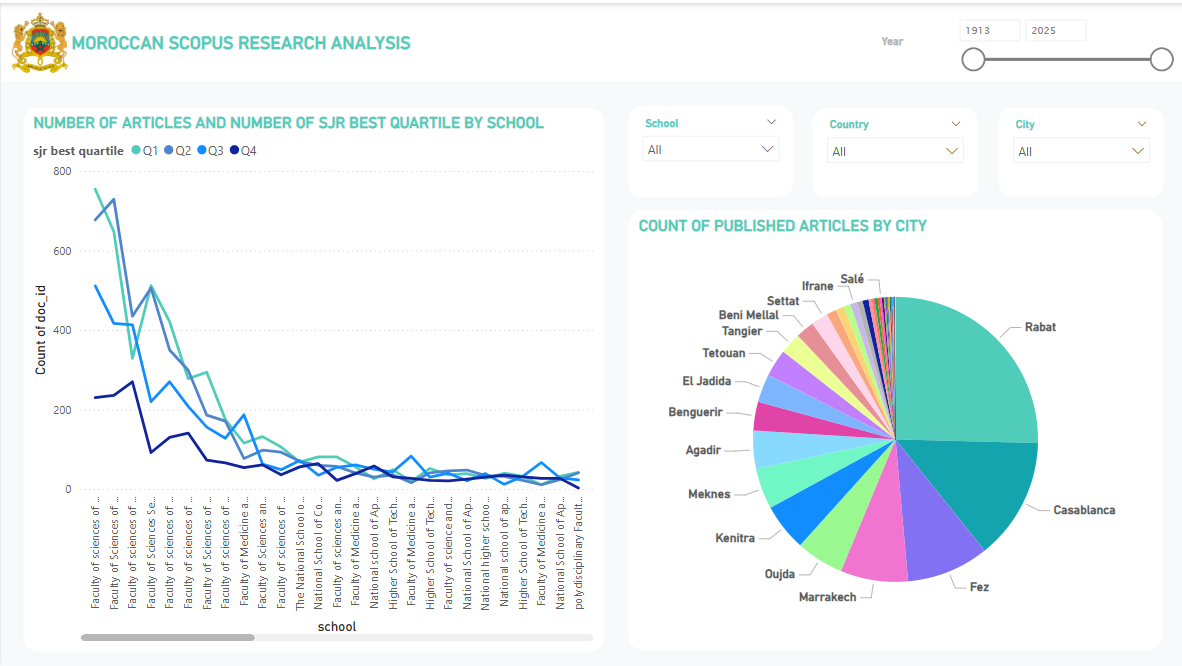

Layout of this report page (visuals, bound fields, positions):
{"tool":"powerbi","page":{"name":"Dashboard2","canvas":[1280,720],"ordinal":1},"visuals":[{"type":"textbox","box":[0,0,1280.5,84.5],"z":0},{"type":"image","box":[0,0,84.5,84.5],"z":1000},{"type":"textbox","box":[71.8,26.5,393.1,41.6],"z":2000},{"type":"textbox","box":[949.9,26,58.6,34.2],"z":3000},{"type":"slicer","fields":{"Values":["Metadata.year"]},"box":[1026.3,8.1,253.7,76.4],"z":4000},{"type":"slicer","fields":{"Values":["Affiliation.city"]},"box":[1081,113.4,179.5,96.4],"z":5000},{"type":"slicer","fields":{"Values":["Affiliation.country"]},"box":[880.6,113.4,179.5,96.4],"z":6000},{"type":"slicer","fields":{"Values":["Affiliation.school"]},"box":[680.3,111.5,179.5,98.3],"z":7000},{"type":"lineChart","title":"NUMBER OF ARTICLES AND NUMBER OF SJR BEST QUARTILE BY SCHOOL","fields":{"Series":["Journal.sjr best quartile"],"Category":["Affiliation.school"],"Y":["CountNonNull(Metadata.doc_id)"]},"box":[24.6,113.4,629.3,589.6],"z":8000},{"type":"pieChart","title":"COUNT OF PUBLISHED ARTICLES BY CITY","fields":{"Category":["Affiliation.city"],"Y":["CountNonNull(Metadata.doc_id)"]},"box":[680.3,224.9,580.2,478.1],"z":9000}]}

Visuals, with their boxes in screenshot pixels (x1, y1, x2, y2), scaled from the page's 1280x720 canvas onto the 1182x666 screenshot:
textbox: locate(0, 0, 1181, 78)
image: locate(0, 0, 78, 78)
textbox: locate(66, 25, 429, 63)
textbox: locate(877, 24, 931, 56)
slicer - Metadata.year: locate(948, 7, 1181, 78)
slicer - Affiliation.city: locate(998, 105, 1164, 194)
slicer - Affiliation.country: locate(813, 105, 979, 194)
slicer - Affiliation.school: locate(628, 103, 794, 194)
"NUMBER OF ARTICLES AND NUMBER OF SJR BEST QUARTILE BY SCHOOL" lineChart: locate(23, 105, 604, 650)
"COUNT OF PUBLISHED ARTICLES BY CITY" pieChart: locate(628, 208, 1164, 650)
